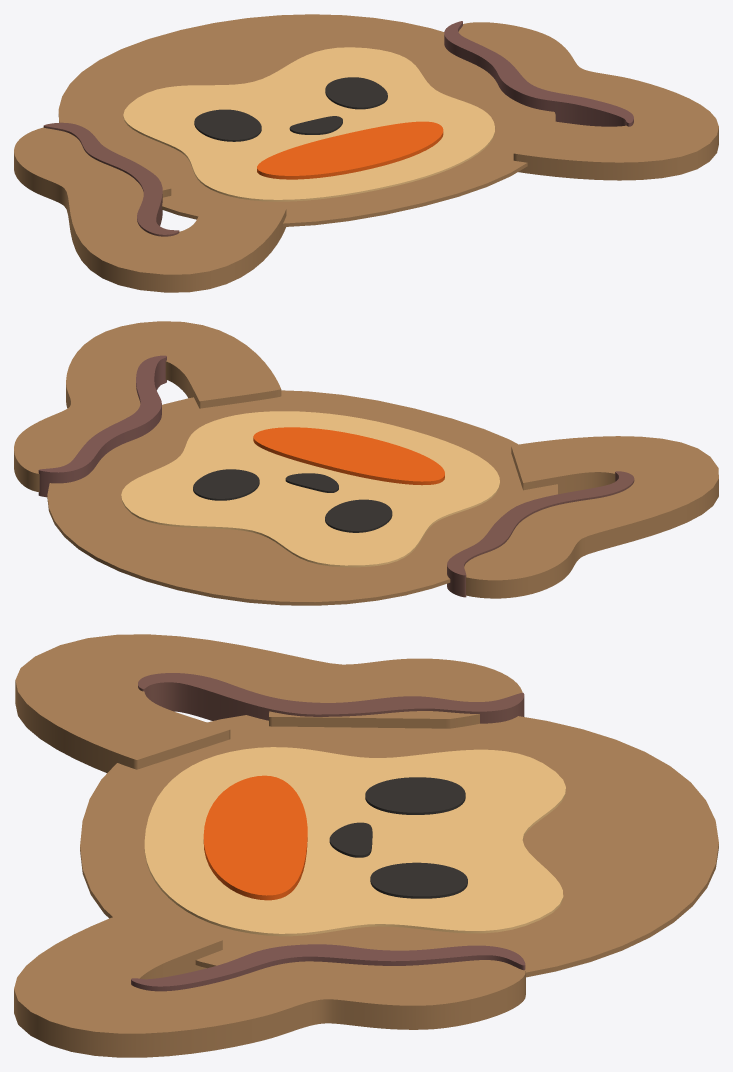
The model's file is emoji_u1f649.glb.
The picture shows the model from 3 angles, top to bottom: view 1: azimuth 30°, elevation 25°; view 2: azimuth 150°, elevation 25°; view 3: azimuth 270°, elevation 25°; orthographic projection. The views are drawn at different scales.
Parts seen in each view (by area): view 1: emoji_u1f649; view 2: emoji_u1f649; view 3: emoji_u1f649.
Part boxes in pixels (x1,y1,x2,y2): emoji_u1f649: (14,14,718,292); emoji_u1f649: (14,321,718,605); emoji_u1f649: (14,634,718,1057).
Bounding box in the file's own units: 0.0355 × 0.0014 × 0.0265.
